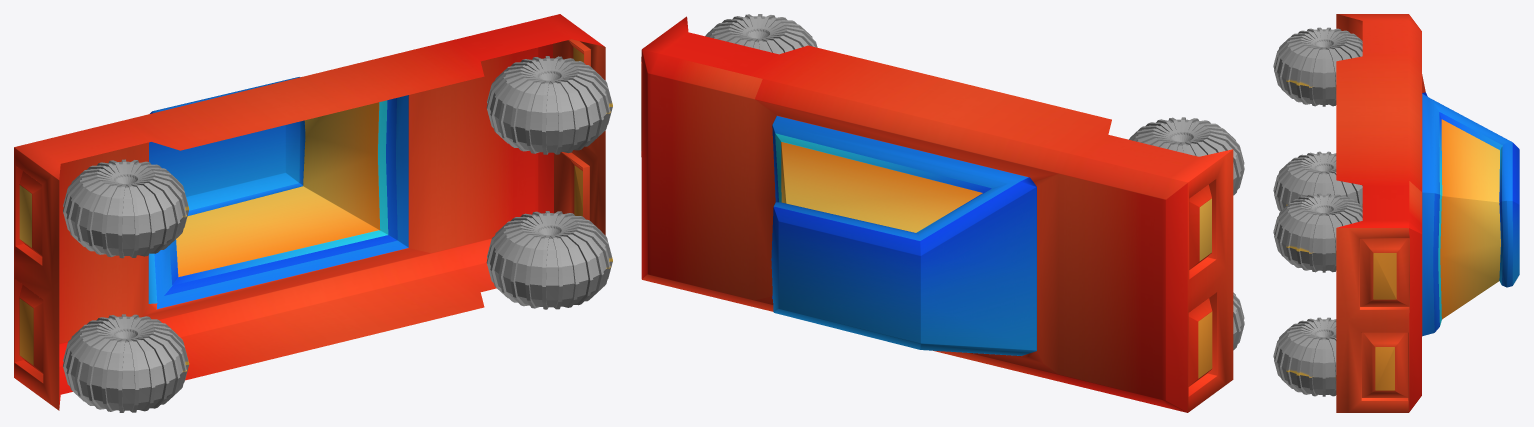
Rendered from Car 1.fbx.
3 renders of one model, left to right at view 1: azimuth 30°, elevation 25°; view 2: azimuth 150°, elevation 25°; view 3: azimuth 270°, elevation 25°, orthographic. The views are drawn at different scales.
Parts seen in each view (by area): view 1: Car Base, wheels.002, wheels.003, wheels.001, wheels; view 2: Car Base, wheels.003, wheels.002; view 3: Car Base, wheels.003, wheels.002, wheels, wheels.001.
Boxes of the visible parts, bbox=[...] form: Car Base: bbox=[14, 14, 605, 410]; wheels.002: bbox=[486, 56, 612, 154]; wheels.003: bbox=[63, 159, 189, 258]; wheels.001: bbox=[63, 314, 189, 412]; wheels: bbox=[486, 211, 612, 309]; Car Base: bbox=[641, 16, 1233, 412]; wheels.003: bbox=[1129, 117, 1244, 195]; wheels.002: bbox=[705, 14, 817, 54]; Car Base: bbox=[1336, 14, 1519, 412]; wheels.003: bbox=[1273, 27, 1362, 106]; wheels.002: bbox=[1273, 193, 1362, 272]; wheels: bbox=[1273, 317, 1336, 396]; wheels.001: bbox=[1273, 151, 1362, 211].
Bounding box in the file's own units: 384 × 153 × 184.
